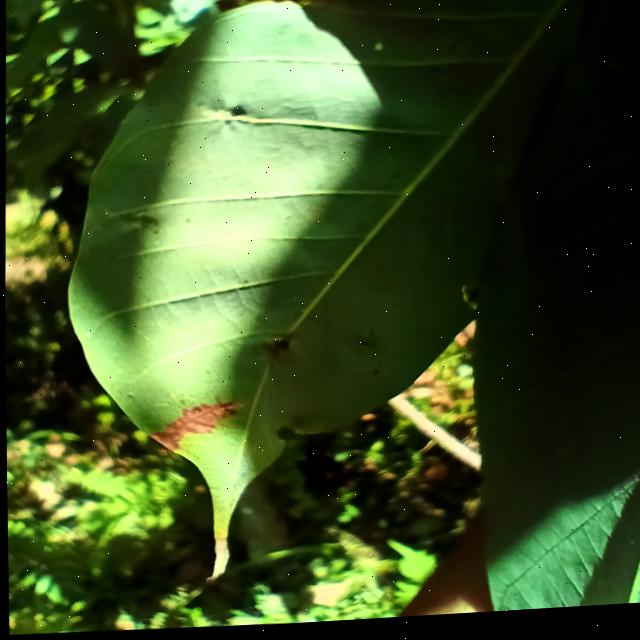Corynespora: (146, 399, 235, 452)
